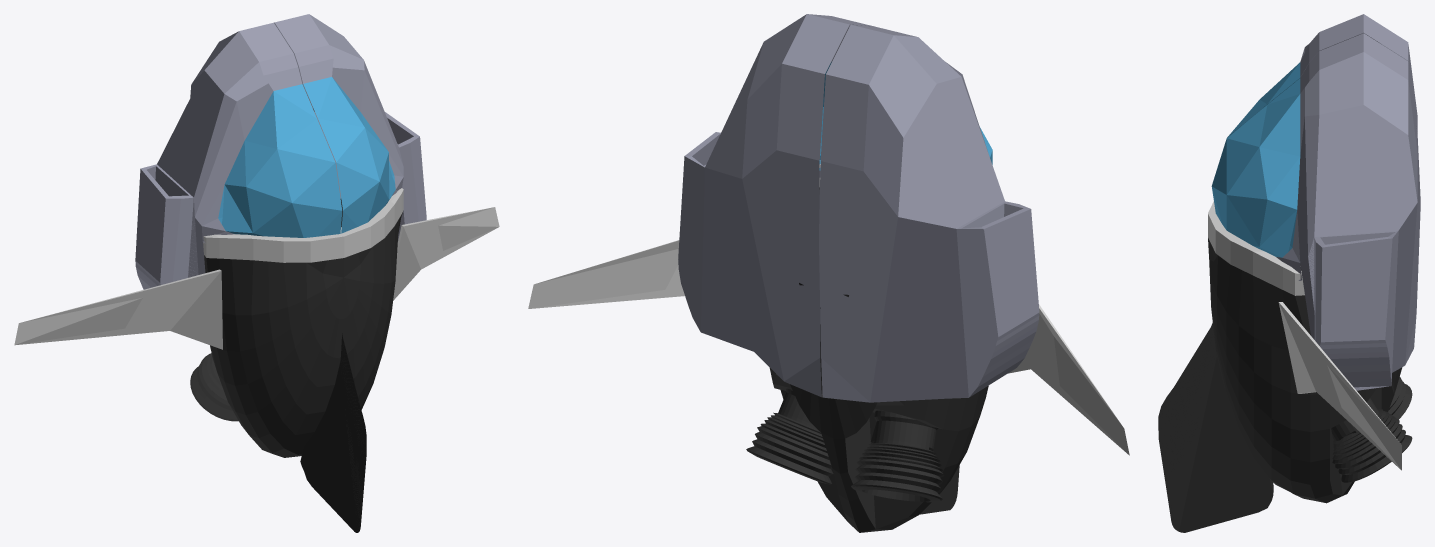
The model's file is e29onemesh_2106.fbx.
The picture shows the model from 3 angles, left to right: view 1: azimuth 30°, elevation 25°; view 2: azimuth 150°, elevation 25°; view 3: azimuth 270°, elevation 25°; orthographic projection. The views are drawn at different scales.
Visible parts, largest first — view 1: E29; view 2: E29; view 3: E29.
Part boxes in pixels (x1,y1,x2,y2): E29: [14, 14, 499, 532]; E29: [528, 14, 1129, 532]; E29: [1158, 14, 1420, 532].
Bounding box in the file's own units: 3.5 × 3.1 × 1.48.
